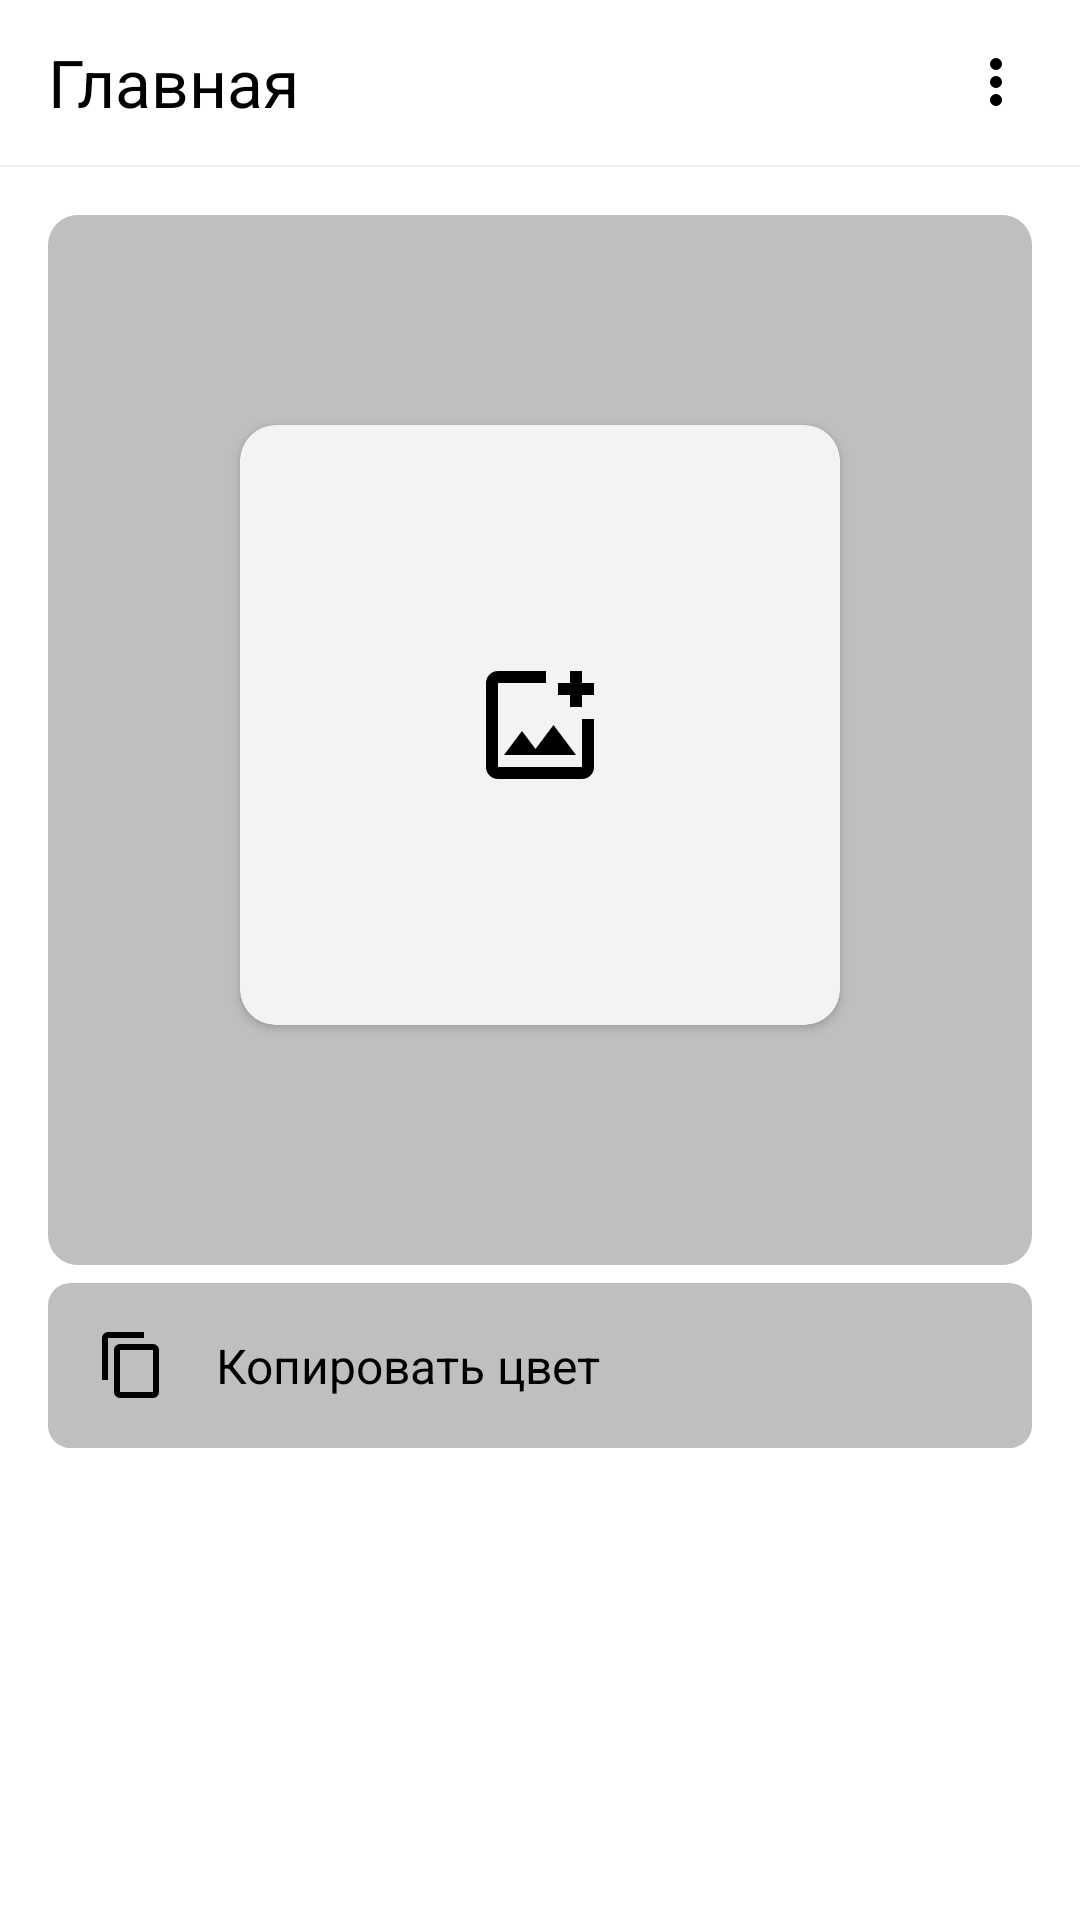

Icons on this 1080 × 1920 Android screen, each with the point to tap as (x=x, y=y):
dots vertical: (x=996, y=82)
